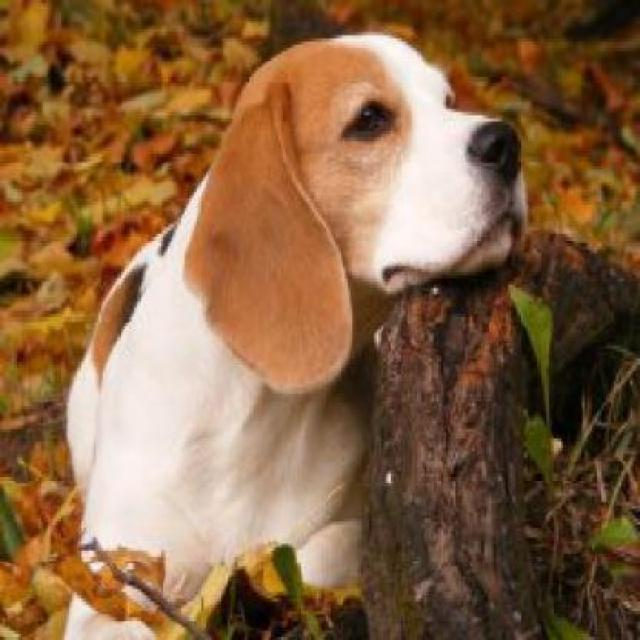Dog: (63, 26, 531, 637)
